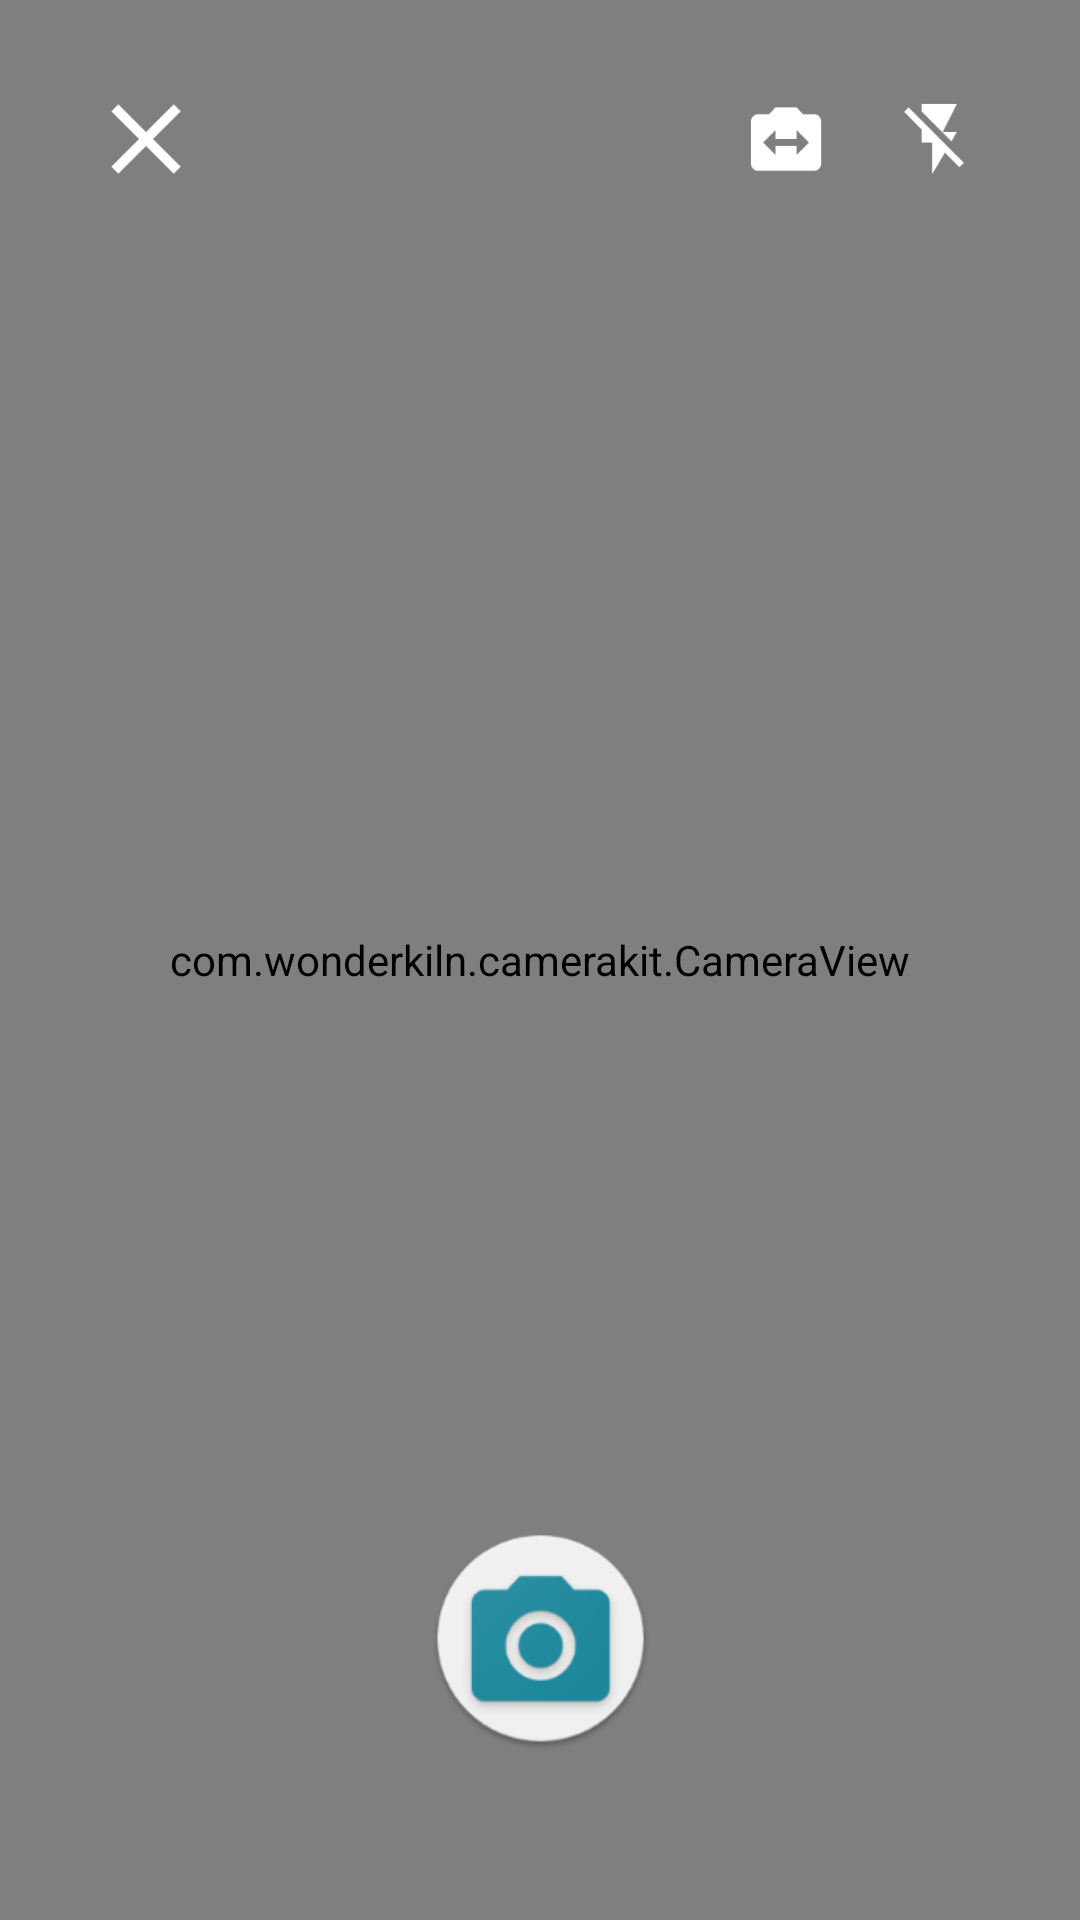

Icon click points for this 1080*1920 phone screenshot, format point (x, y):
close: point (146, 139)
flash off: point (934, 139)
switch: point (786, 139)
